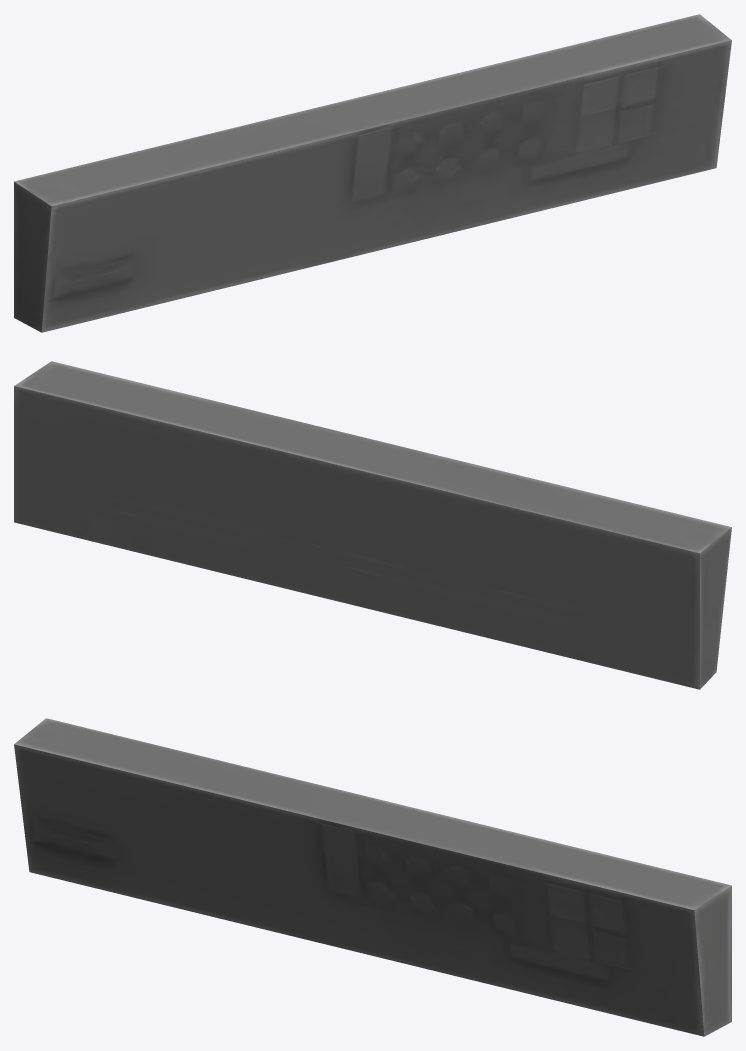
The model's file is chassis__rear_housing.glb.
The picture shows the model from 3 angles, top to bottom: view 1: azimuth 30°, elevation 25°; view 2: azimuth 150°, elevation 25°; view 3: azimuth 330°, elevation 25°; orthographic projection.
Visible parts, largest first — view 1: world; view 2: world; view 3: world.
Boxes of the visible parts, bbox=[...] form: world: bbox=[14, 14, 731, 332]; world: bbox=[14, 361, 731, 689]; world: bbox=[14, 718, 731, 1036].
Bounding box in the file's own units: 0.5 × 0.095 × 0.044.
Materials: 1 (1 with a texture image).
